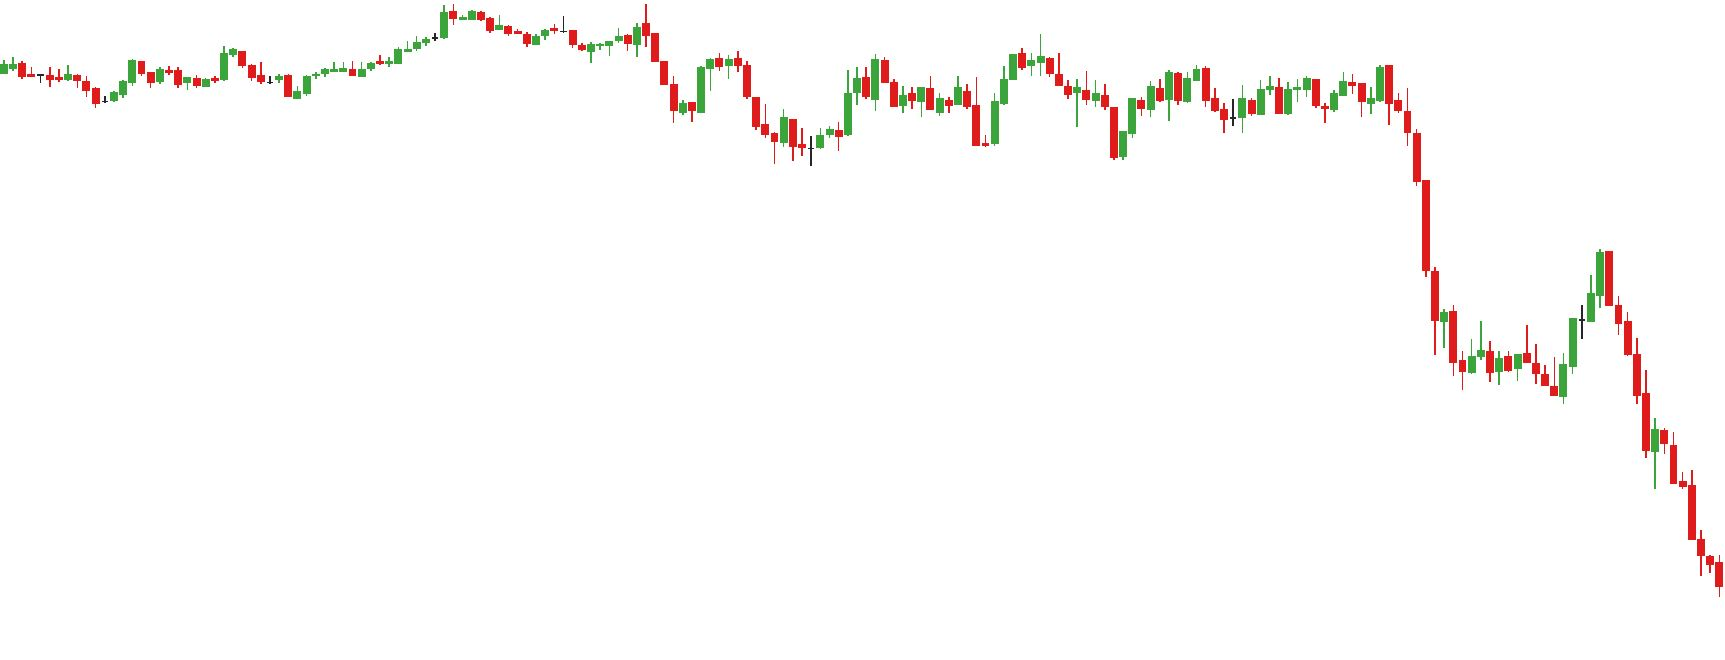sell: (1292, 64, 1396, 109)
